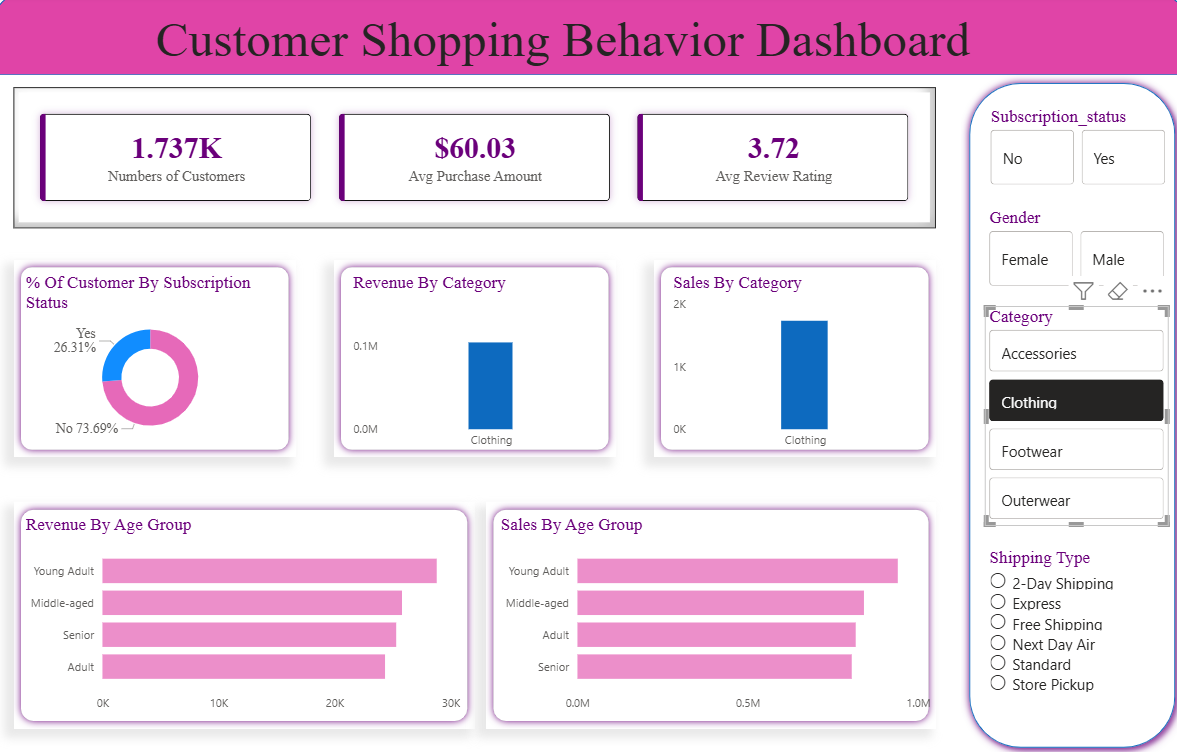

What the dashboard file says about the page in this screenshot:
{"tool":"powerbi","page":{"name":"Page 1","canvas":[1280,820],"ordinal":0},"visuals":[{"type":"cardVisual","fields":{"Data":["public customer.Numbers of Customers","public customer.Avg Purchase Amount","public customer.Avg Review Rating"]},"box":[18.9,98.4,994.6,152.3],"z":0},{"type":"shape","box":[0,0,1280.3,85.1],"z":1000},{"type":"textbox","box":[167.4,12.3,948.2,97.4],"z":2000},{"type":"shape","box":[18.9,284.4,304.6,212.9],"z":3000},{"type":"donutChart","title":"% Of Customer By Subscription Status","fields":{"Category":["public customer.subscription_status"],"Y":["Count(public customer.customer_id)"]},"box":[27,297.8,279,186],"z":4000},{"type":"shape","box":[708.9,284.4,304.6,212.9],"z":5000},{"type":"shape","box":[363.9,284.4,304.6,212.9],"z":6000},{"type":"clusteredColumnChart","title":"Revenue By Category","fields":{"Y":["Sum(public customer.purchase_amount)"],"Category":["public customer.category"]},"box":[380,297.8,272.2,199.5],"z":7000},{"type":"clusteredColumnChart","title":"Sales By Category","fields":{"Y":["CountNonNull(public customer.customer_id)"],"Category":["public customer.category"]},"box":[725,297.8,272.2,199.5],"z":8000},{"type":"shape","box":[1040.4,84.9,239.9,734.5],"z":9000},{"type":"advancedSlicerVisual","title":"Subscription_status","fields":{"Values":["public customer.subscription_status"]},"box":[1067.3,118.6,198.1,90.3],"z":10000},{"type":"advancedSlicerVisual","title":"Gender","fields":{"Values":["public customer.gender"]},"box":[1066,227.8,198.1,90.3],"z":11000},{"type":"advancedSlicerVisual","title":"Category","fields":{"Values":["public customer.category"]},"box":[1066,334.2,198.1,237.2],"z":12000},{"type":"listSlicer","title":"Shipping Type","fields":{"Values":["public customer.shipping_type"]},"box":[1066,594.3,148.2,208.9],"z":13000},{"type":"shape","box":[18.9,545.8,497.3,243.9],"z":13002},{"type":"clusteredBarChart","title":"Revenue By Age Group","fields":{"Y":["Sum(public customer.purchase_amount)"],"Category":["public customer.age_group"]},"box":[27,559.3,478.4,221],"z":13003},{"type":"shape","box":[528.3,545.8,485.2,243.9],"z":13004},{"type":"clusteredBarChart","title":"Sales By Age Group","fields":{"Category":["public customer.age_group"],"Y":["Sum(public customer.customer_id)"]},"box":[539.1,559.3,474.4,221],"z":13005}]}

Visuals, with their boxes in screenshot pixels (x1, y1, x2, y2), scaled from the page's 1280x820 canvas onto the 1177x752 screenshot:
cardVisual - public customer.Numbers of Customers x public customer.Avg Purchase Amount: 17/90/932/230
shape: 0/0/1176/78
textbox: 154/11/1026/101
shape: 17/261/297/456
"% Of Customer By Subscription Status" donutChart: 25/273/281/444
shape: 652/261/932/456
shape: 335/261/615/456
"Revenue By Category" clusteredColumnChart: 349/273/600/456
"Sales By Category" clusteredColumnChart: 667/273/917/456
shape: 957/78/1176/751
"Subscription_status" advancedSlicerVisual: 981/109/1164/192
"Gender" advancedSlicerVisual: 980/209/1162/292
"Category" advancedSlicerVisual: 980/306/1162/524
"Shipping Type" listSlicer: 980/545/1116/737
shape: 17/501/475/724
"Revenue By Age Group" clusteredBarChart: 25/513/465/716
shape: 486/501/932/724
"Sales By Age Group" clusteredBarChart: 496/513/932/716
